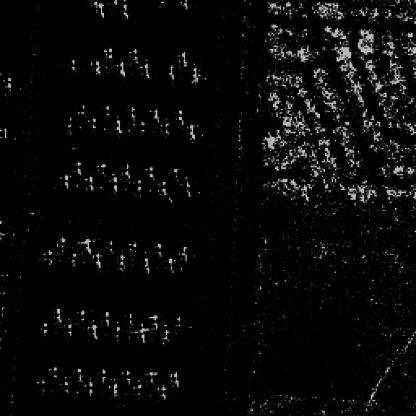airplane: (180, 176, 196, 198), (164, 61, 179, 84), (184, 122, 200, 143), (84, 320, 100, 340), (156, 179, 172, 198), (169, 166, 185, 185), (166, 369, 182, 388), (111, 322, 125, 343), (151, 385, 169, 401), (187, 63, 201, 83), (62, 115, 76, 135), (135, 323, 149, 343), (55, 379, 75, 393), (104, 382, 119, 400), (119, 366, 133, 385), (138, 60, 154, 76), (45, 364, 61, 380), (128, 382, 144, 398), (93, 2, 107, 20), (111, 117, 125, 135), (150, 106, 164, 124), (83, 174, 97, 192), (53, 235, 66, 254), (176, 47, 188, 67), (143, 369, 158, 385), (117, 3, 130, 21), (100, 308, 113, 326), (125, 310, 138, 328), (34, 378, 47, 396), (143, 164, 158, 179), (73, 307, 88, 322), (159, 328, 174, 343), (76, 101, 90, 117), (58, 172, 72, 188), (177, 242, 189, 260), (150, 310, 162, 328), (136, 120, 150, 135), (80, 235, 91, 254), (106, 177, 122, 190), (117, 250, 127, 270), (91, 250, 102, 268), (52, 307, 63, 325), (126, 239, 140, 253), (100, 102, 113, 117), (125, 104, 138, 119), (83, 380, 96, 395), (128, 47, 140, 63), (88, 116, 100, 132), (72, 160, 84, 176), (132, 177, 144, 193), (166, 255, 178, 271), (40, 249, 53, 263), (115, 60, 127, 75), (159, 121, 171, 136), (72, 367, 84, 382), (174, 109, 185, 125), (67, 252, 78, 268), (39, 320, 50, 336), (154, 240, 164, 257), (96, 161, 109, 174), (96, 369, 109, 382), (90, 59, 102, 73), (64, 322, 76, 336), (141, 255, 151, 271), (102, 44, 114, 57), (1, 76, 12, 90), (122, 163, 133, 177), (68, 55, 78, 70), (104, 239, 115, 252), (176, 0, 190, 10), (0, 124, 8, 138), (106, 0, 118, 8), (152, 0, 166, 5)
